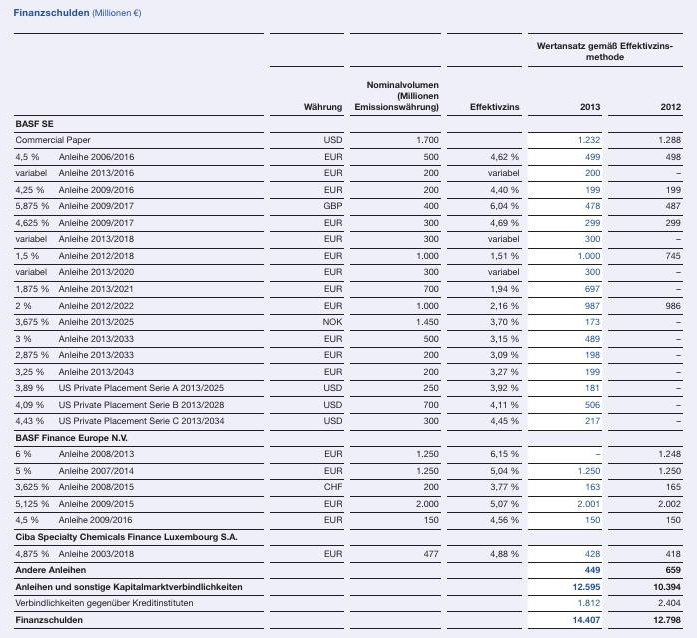table: (0, 0, 697, 638)
